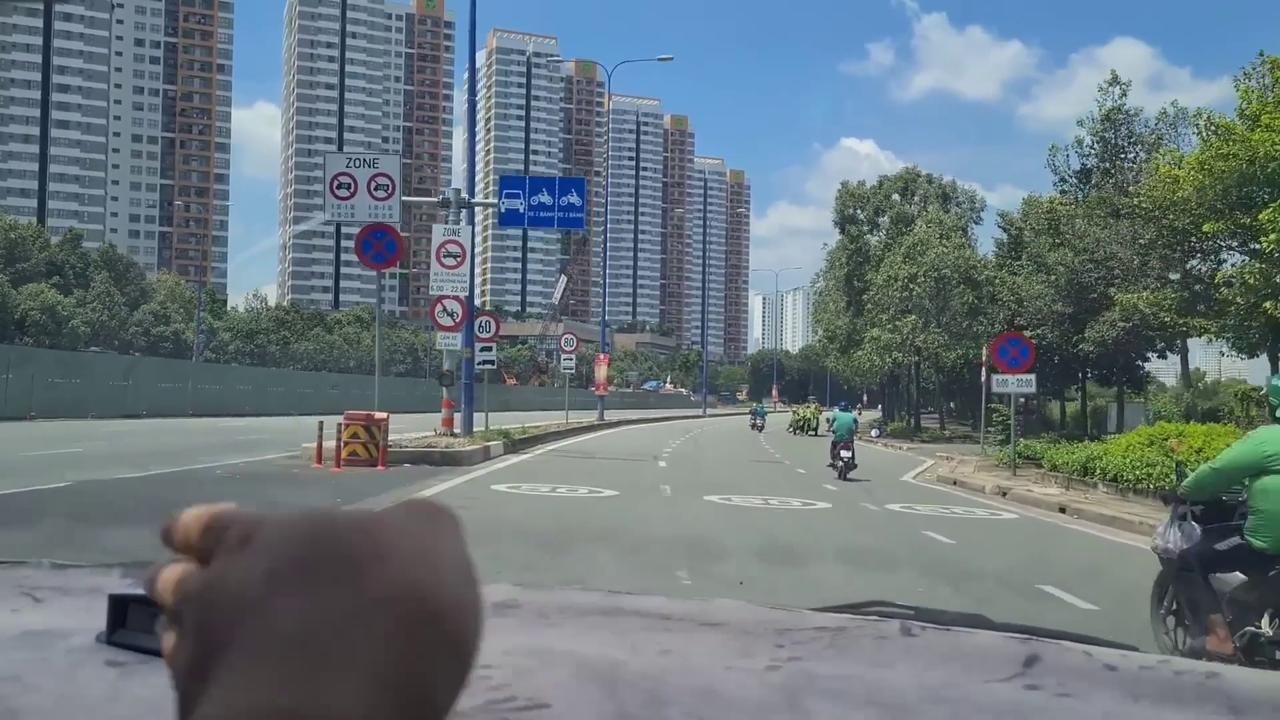Biển phụ: (988, 373, 1038, 394), (473, 341, 497, 370), (435, 332, 461, 351), (561, 355, 577, 373)
Cấm cac phương tiện hoạt động trong khung giờ cố định: (323, 152, 402, 224), (430, 223, 470, 296)
Cấm dừng - Cấm đỗ: (354, 223, 405, 271), (988, 331, 1038, 373)
Cấm xe máy: (430, 294, 467, 332)
GIơi hạn tốc độ 60Km/h: (472, 312, 501, 342)
Giới hạn tốc độ 80Km/h: (559, 330, 579, 354)
Làn đường cho từng xe: (496, 175, 585, 230)
